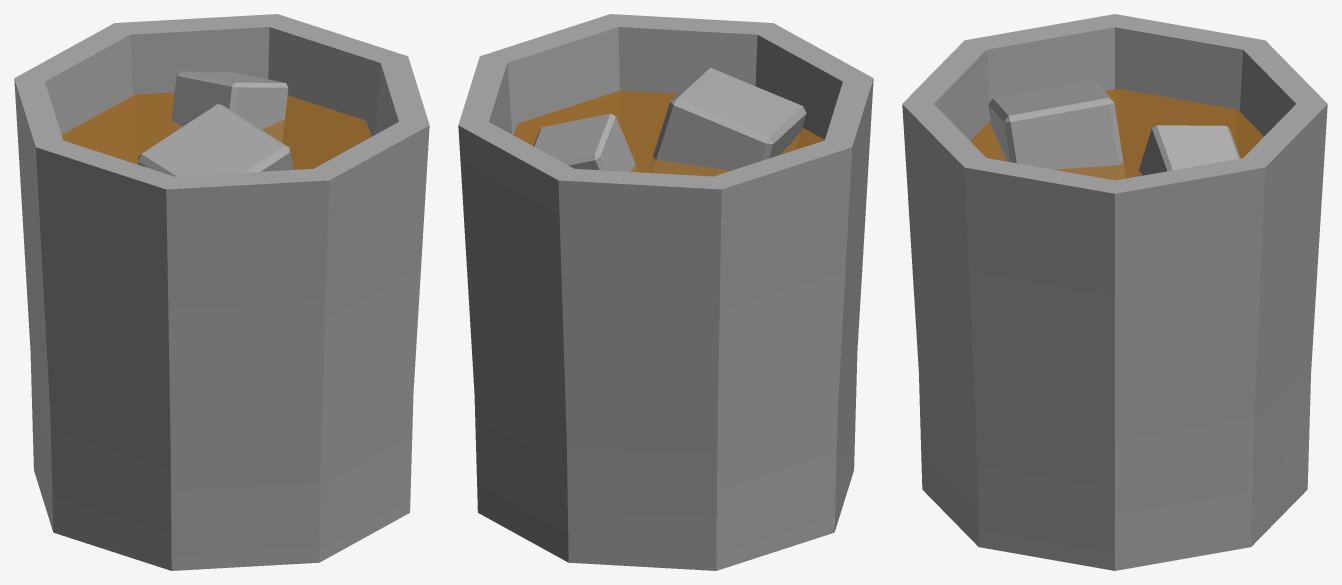
The model's file is Vaso (1).fbx.
The picture shows the model from 3 angles, left to right: view 1: azimuth 30°, elevation 25°; view 2: azimuth 150°, elevation 25°; view 3: azimuth 270°, elevation 25°; orthographic projection.
Parts seen in each view (by area): view 1: pCylinder1, pasted__pCylinder1, pCube1, pasted__pCube1; view 2: pCylinder1, pCube1, pasted__pCylinder1, pasted__pCube1; view 3: pCylinder1, pCube1, pasted__pCylinder1, pasted__pCube1.
Part boxes in pixels (x1,y1,x2,y2): pCylinder1: (14,14,429,570); pasted__pCylinder1: (61,92,371,169); pCube1: (138,103,293,176); pasted__pCube1: (170,71,288,141); pCylinder1: (458,14,873,570); pCube1: (648,67,806,175); pasted__pCylinder1: (513,90,824,176); pasted__pCube1: (533,113,638,171); pCylinder1: (902,14,1327,570); pCube1: (988,80,1125,179); pasted__pCylinder1: (970,89,1263,180); pasted__pCube1: (1137,125,1240,175).
Bounding box in the file's own units: 2 × 2.01 × 2.
